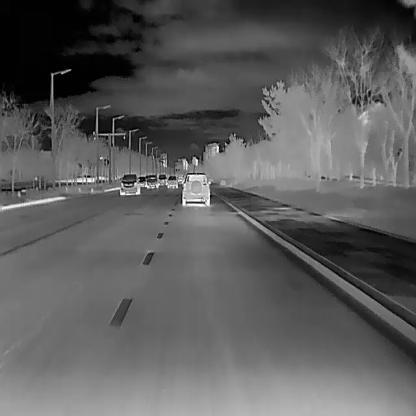car: (182, 172, 211, 206), (118, 173, 140, 194), (144, 174, 158, 188), (166, 175, 177, 188), (157, 173, 167, 185), (137, 175, 146, 186)
